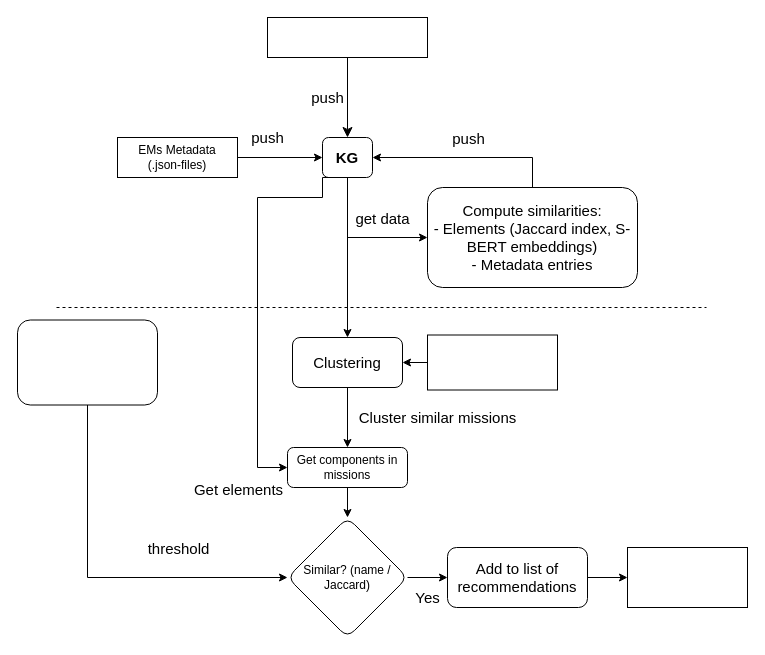
Image size: 765x655. Some labels were removed from this diagram. The shapes that lost their labels are listed below. From the top down, each one's box as (x1, y1, x2, y2) in pixels, then its label:
(266, 16, 428, 58): EMs (CDP4 --> .json-files)
(16, 319, 158, 405): Configuration file : - Threshold element similarity .....
(426, 334, 558, 390): Metadata "New Mission" (Python dict / .json-file)
(626, 546, 748, 608): Recommendation of similiar elements
